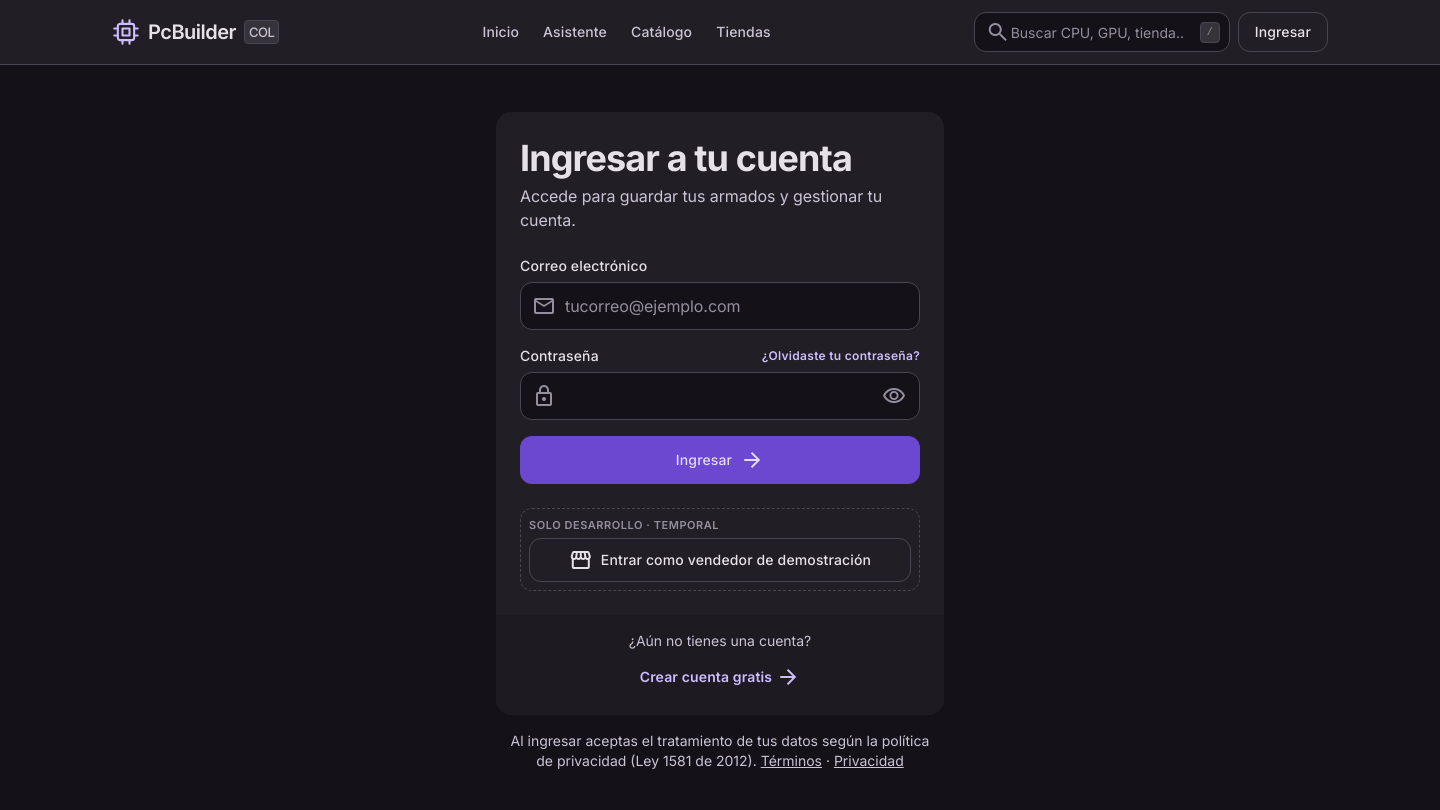
Test case: Atajo temporal al portal del vendedor › si el inicio de sesión falla avisa y deja volver a intentar
This screenshot has width=1440, height=810.
What coordinates should you click on to do the following:
click the button "Entrar como vendedor de demostración"
I would click on:
 (720, 560)
Its box is [529,538,911,582].
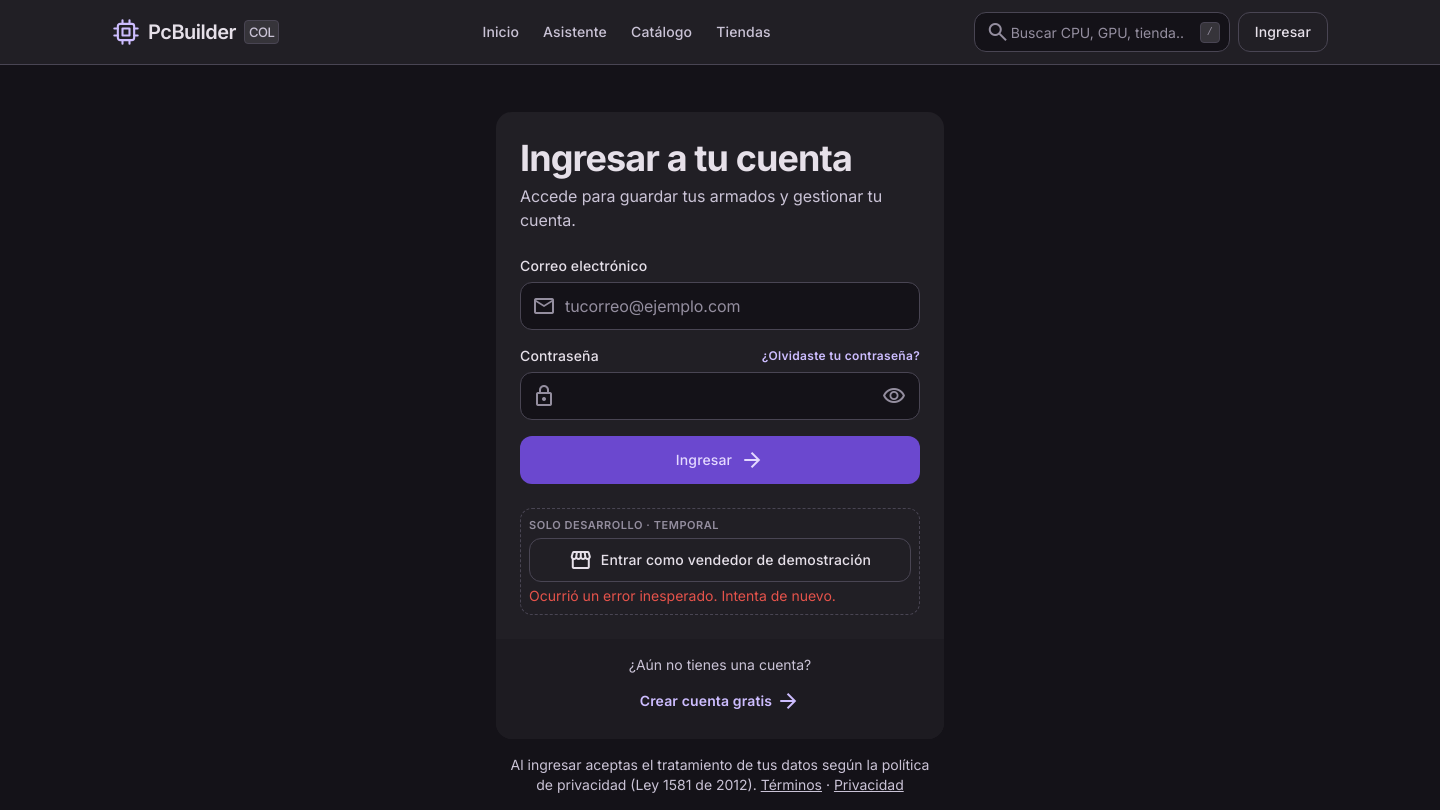
Expected: the message shows "Ocurrió un error inesperado", [529,586,836,604]
